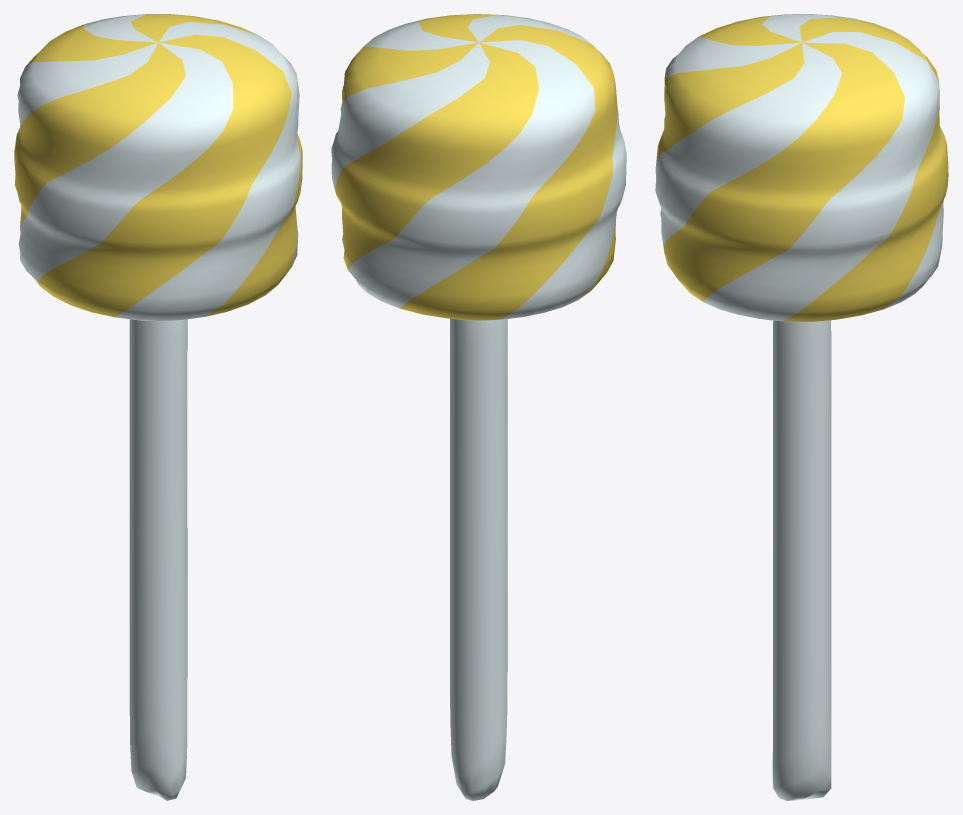
File: Lollipop_C_01.fbx
3 renders of one model, left to right at view 1: azimuth 30°, elevation 25°; view 2: azimuth 150°, elevation 25°; view 3: azimuth 270°, elevation 25°, orthographic.
Parts seen in each view (by area): view 1: Lollipop_C_01_LOD0; view 2: Lollipop_C_01_LOD0; view 3: Lollipop_C_01_LOD0.
Part boxes in pixels (x1=…): Lollipop_C_01_LOD0: x1=14, y1=14, x2=302, y2=800; Lollipop_C_01_LOD0: x1=331, y1=14, x2=626, y2=800; Lollipop_C_01_LOD0: x1=655, y1=14, x2=948, y2=800.
Size of what is drawn, in the model's own units: 369 by 1052 by 369.
